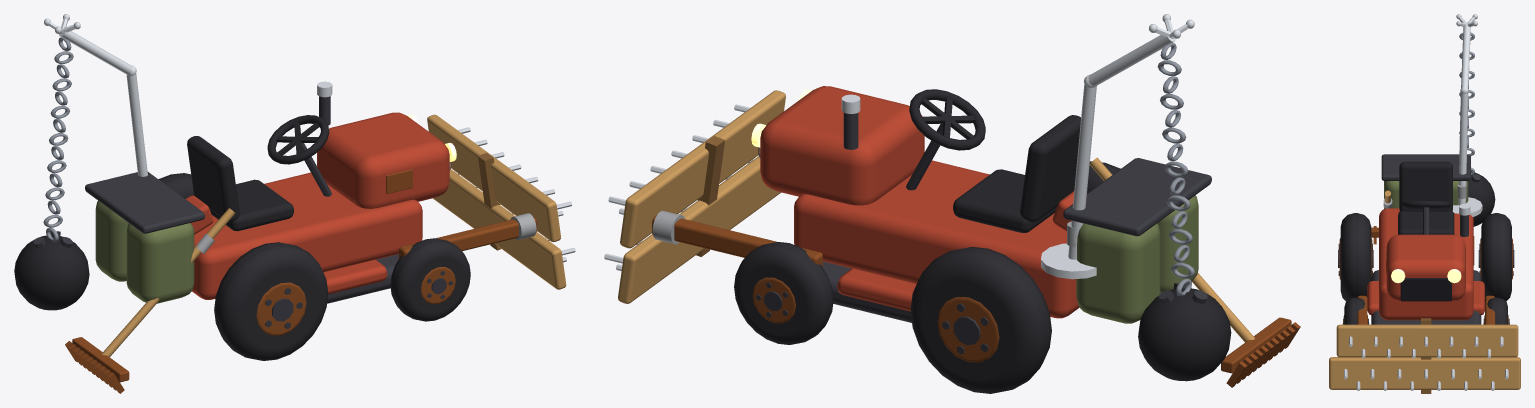
Rendered from vehicle_building_destroyer_t1.glb.
3 views of the same model, side by side, from view 1: azimuth 30°, elevation 25°; view 2: azimuth 150°, elevation 25°; view 3: azimuth 270°, elevation 25° (orthographic). The views are drawn at different scales.
Visible parts, largest first — view 1: Tub, Hood, WheelRR.Tyre, Bag.Sack, Blade.Plank.001, Crane.Ball, Bag.Frame, WheelFR.Tyre, Blade.Plank, Seat.Back, Seat.Pan, Bag.Sack.001 (+14 smaller); view 2: Tub, Hood, WheelRL.Tyre, Bag.Sack.001, Blade.Plank.001, Crane.Ball, WheelFL.Tyre, Blade.Plank, Bag.Frame, Seat.Back, Seat.Pan, WheelRL.Hub (+17 smaller); view 3: Blade.Plank, Blade.Plank.001, Hood, Tub, WheelRR.Tyre, WheelRL.Tyre, Seat.Back, Bag.Frame, Grille, Seat.Pan, Crane.Ball, Deck (+17 smaller).
Part boxes in pixels (x1,y1,x2,y2): Tub: (192, 172, 422, 299); Hood: (317, 112, 449, 208); WheelRR.Tyre: (214, 242, 328, 360); Bag.Sack: (126, 223, 194, 303); Blade.Plank.001: (427, 114, 560, 242); Crane.Ball: (14, 235, 89, 310); Bag.Frame: (85, 172, 204, 233); WheelFR.Tyre: (390, 238, 470, 321); Blade.Plank: (433, 169, 566, 289); Seat.Back: (187, 136, 239, 222); Seat.Pan: (210, 179, 293, 231); Bag.Sack.001: (95, 200, 128, 281); Tub: (794, 160, 1079, 318); Hood: (760, 86, 924, 205); WheelRL.Tyre: (910, 247, 1051, 393); Bag.Sack.001: (1076, 223, 1160, 323); Blade.Plank.001: (620, 90, 785, 248); Crane.Ball: (1138, 288, 1231, 381); WheelFL.Tyre: (734, 242, 833, 344); Blade.Plank: (618, 156, 780, 303); Bag.Frame: (1063, 158, 1211, 236); Seat.Back: (1020, 115, 1080, 222); Seat.Pan: (953, 169, 1056, 232); WheelRL.Hub: (937, 297, 999, 362); Blade.Plank: (1329, 357, 1520, 389); Blade.Plank.001: (1336, 324, 1518, 357); Hood: (1386, 234, 1465, 301); Tub: (1379, 208, 1473, 320); WheelRR.Tyre: (1340, 213, 1371, 301); WheelRL.Tyre: (1481, 213, 1511, 301); Seat.Back: (1399, 161, 1452, 211); Bag.Frame: (1381, 154, 1470, 180); Grille: (1400, 278, 1451, 301); Seat.Pan: (1398, 211, 1454, 234); Crane.Ball: (1468, 172, 1495, 226); Deck: (1371, 270, 1481, 324).
Bounding box in the file's own units: 3.18 × 2.02 × 1.5.
